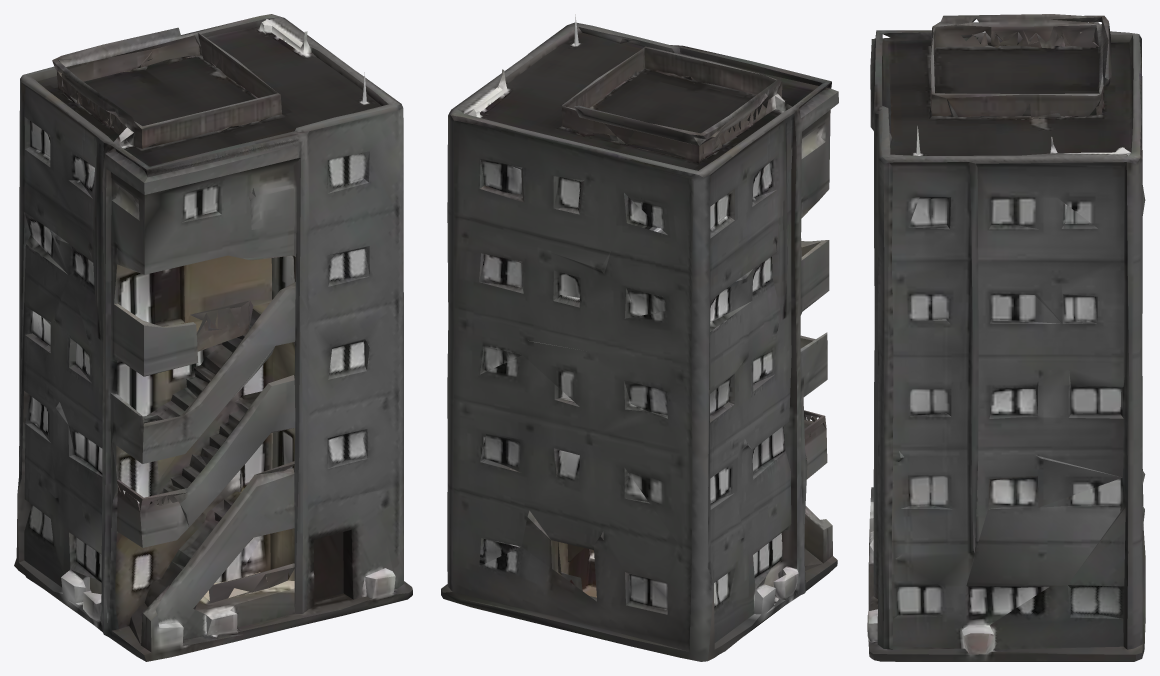
The model's file is mixed.glb.
3 views of the same model, side by side, from view 1: azimuth 30°, elevation 25°; view 2: azimuth 150°, elevation 25°; view 3: azimuth 270°, elevation 25° (orthographic). The views are drawn at different scales.
Visible parts, largest first — view 1: mixed; view 2: mixed; view 3: mixed.
Boxes of the visible parts, x1,y1,x2,y2 form: mixed: [14, 14, 412, 661]; mixed: [441, 14, 838, 661]; mixed: [867, 14, 1145, 661].
Bounding box in the file's own units: 9.06 × 16 × 7.69.
1 material, 1 textured.
